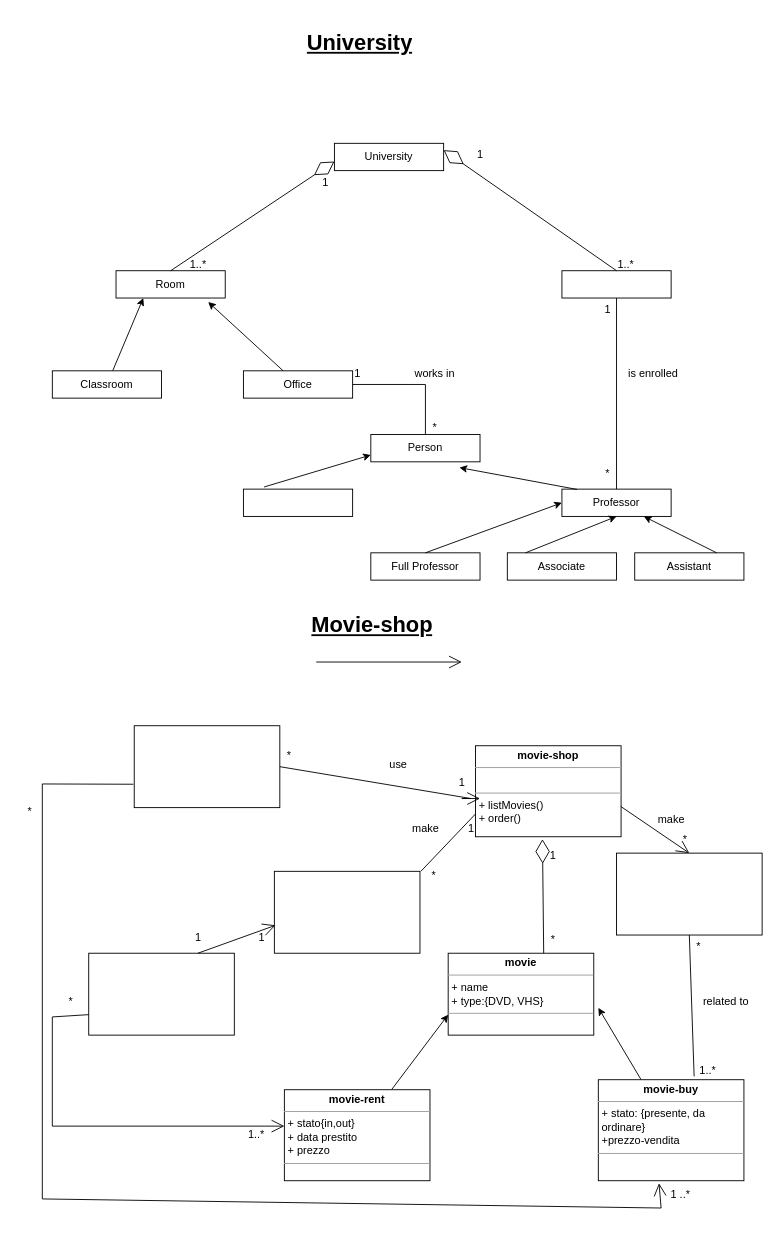
This 778x1237 diagram has some shape labels left out. Here are the shapes that lost their labels. From the top down, the centre of each, then its label:
At pixel 616 284: "Department".
At pixel 298 502: "Employee".
At pixel 206 766: "User + nome + cognome".
At pixel 346 911: "card + credit + code".
At pixel 689 893: "order + date + user".
At pixel 161 993: "subscribe + telefono + indirizzo".
